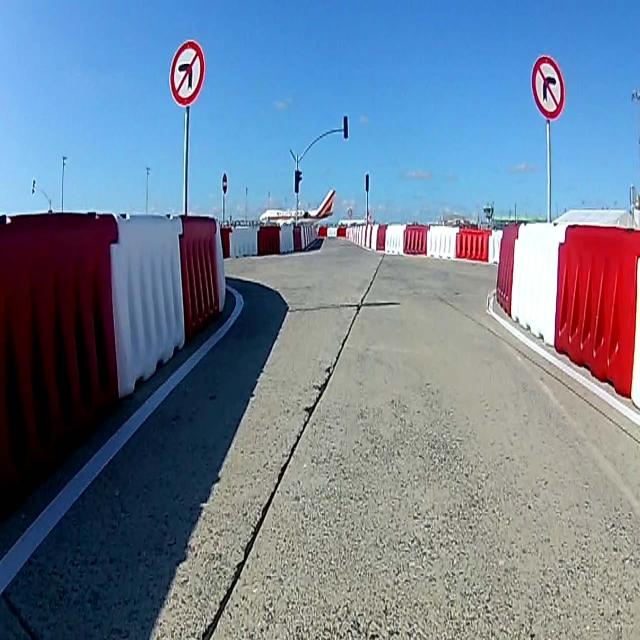sagadonulmez: (532, 55, 564, 116)
soladonulmez: (168, 41, 204, 102)
